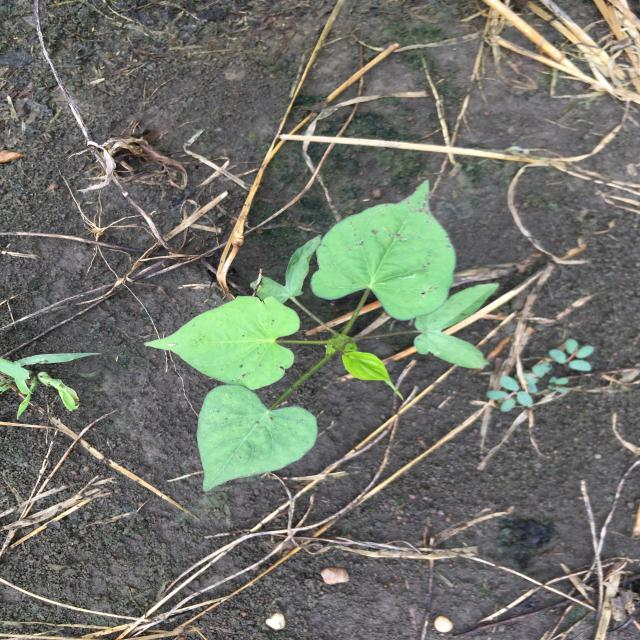MorningGlory: (144, 180, 499, 492)
SpottedSpurge: (486, 338, 594, 412)
